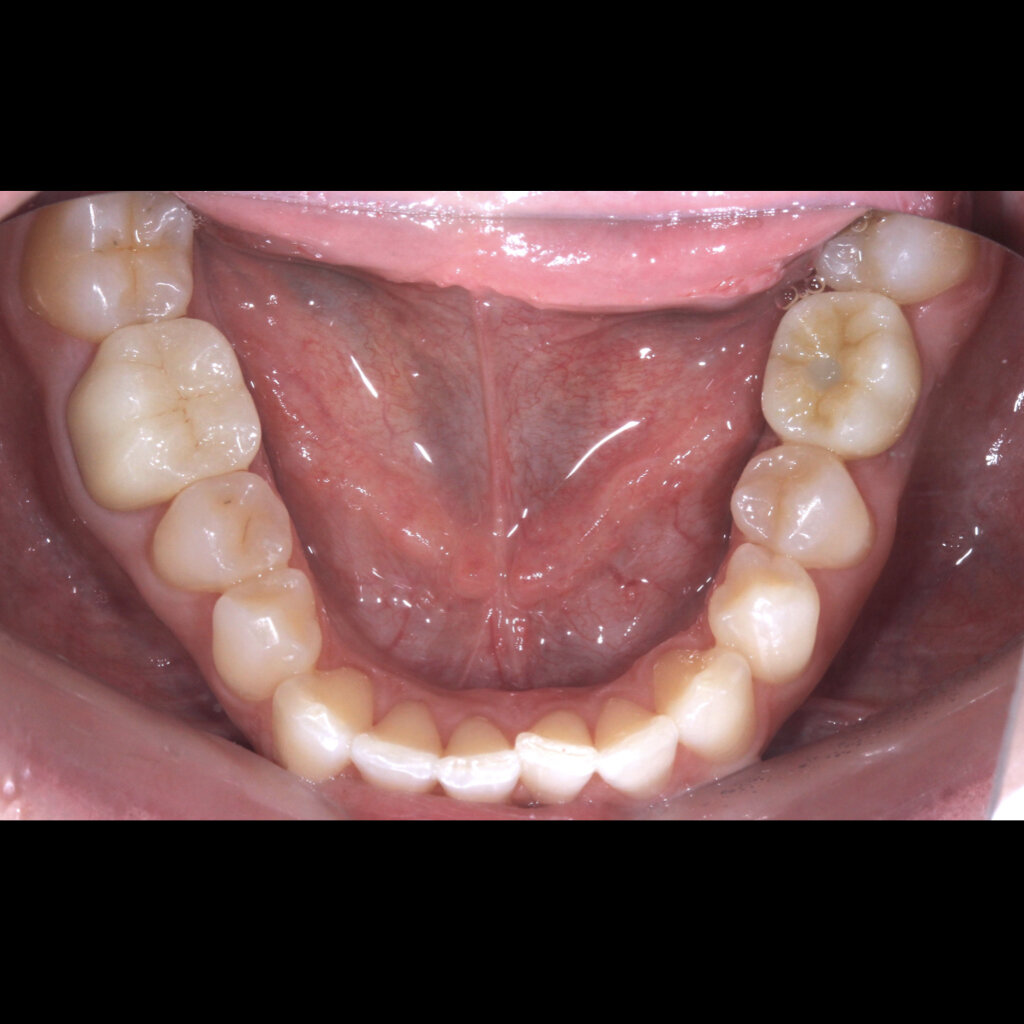LL1BC_healthy: (709, 553, 817, 674)
LL1M_healthy: (764, 293, 917, 443)
LL2BC_healthy: (733, 447, 869, 562)
LL2M_decay: (815, 222, 969, 293)
LLCI_healthy: (518, 712, 595, 797)
LLC_healthy: (655, 648, 750, 749)
LLLI_healthy: (594, 701, 676, 787)
LR1BC_healthy: (213, 571, 321, 693)
LR1M_healthy: (66, 318, 261, 493)
LR2BC_decay: (156, 477, 290, 588)
LR2M_healthy: (43, 200, 190, 327)
LRCI_healthy: (442, 722, 521, 802)
LRC_healthy: (274, 673, 369, 771)
LRLI_healthy: (357, 702, 443, 790)
